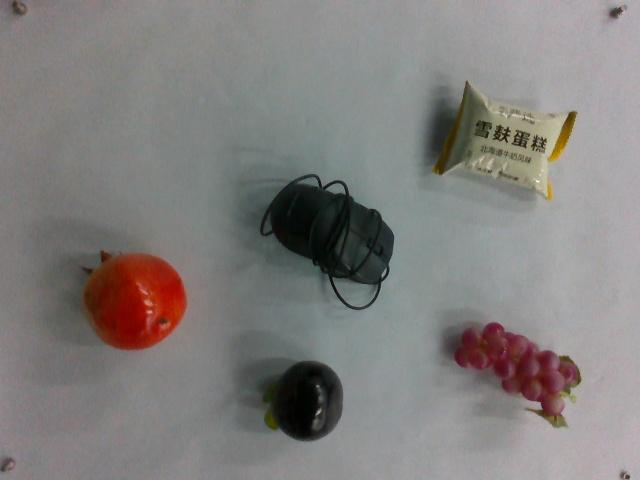dessert: (439, 79, 570, 199)
grape: (451, 313, 579, 430)
mangosteen: (258, 356, 343, 441)
mouse: (258, 171, 396, 305)
pomegranate: (80, 248, 189, 351)
